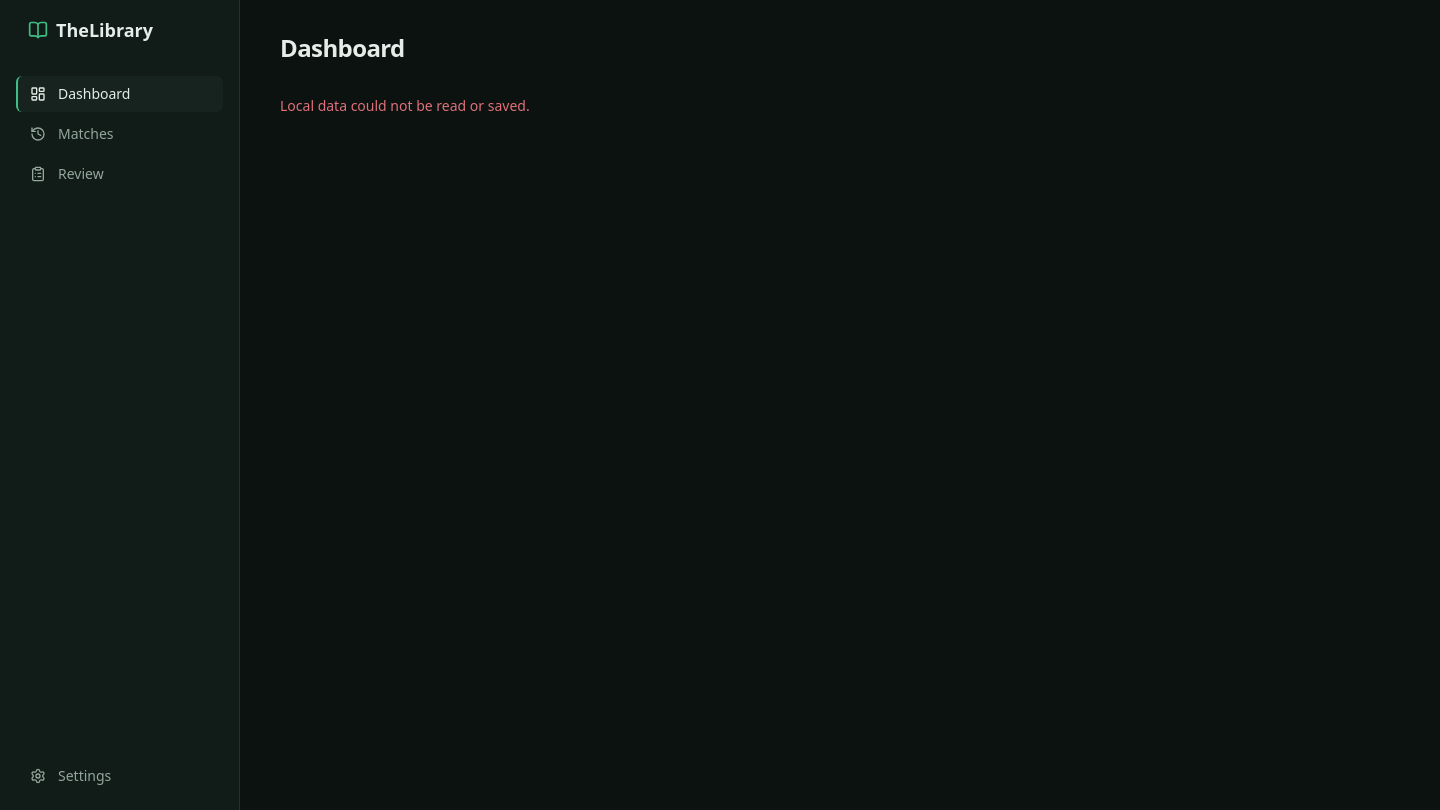
application routes › navigates with the sidebar and marks the current page
Click the link "Matches": (72, 134) [30, 124, 114, 143]
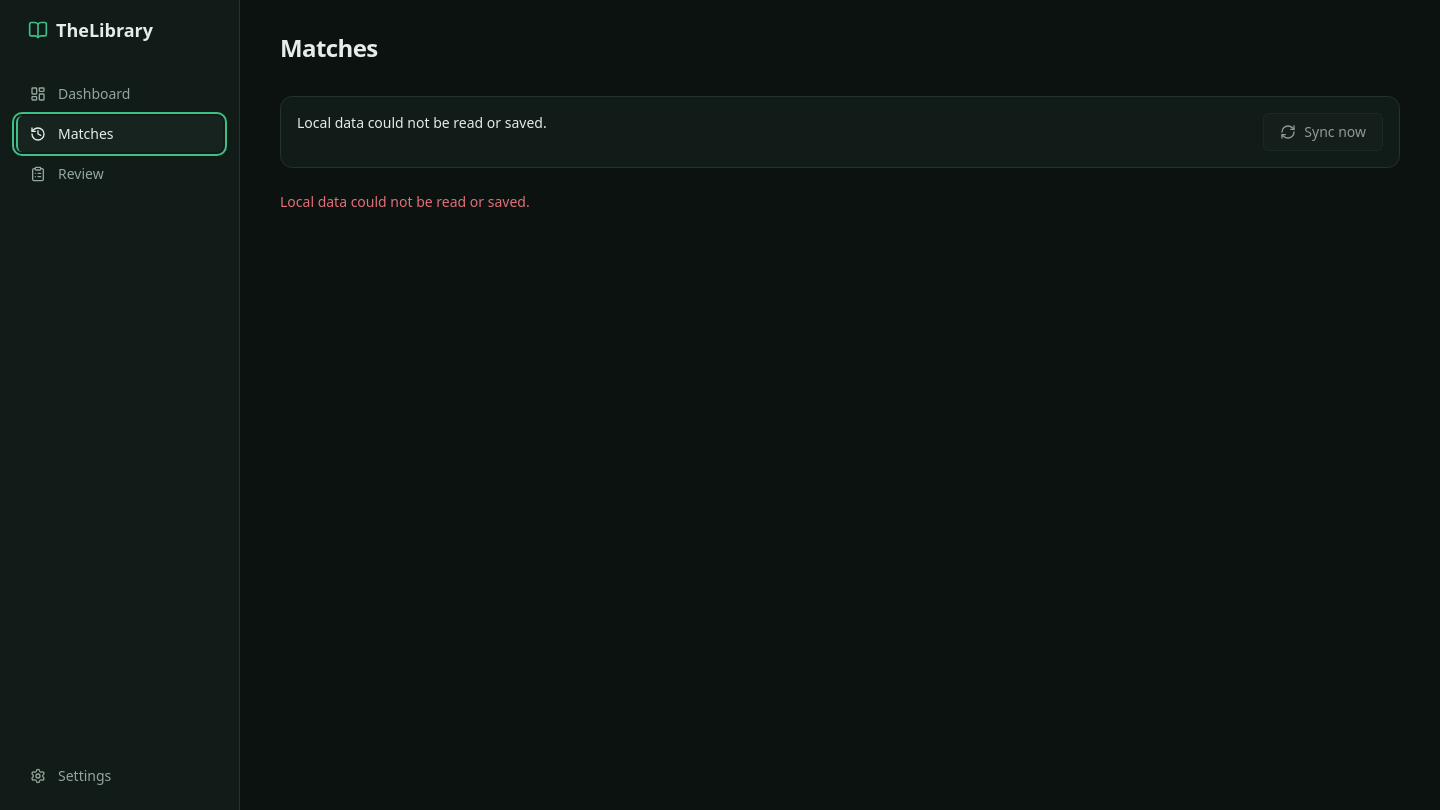
Expected: the heading "Matches" is shown, [280, 31, 378, 64]
